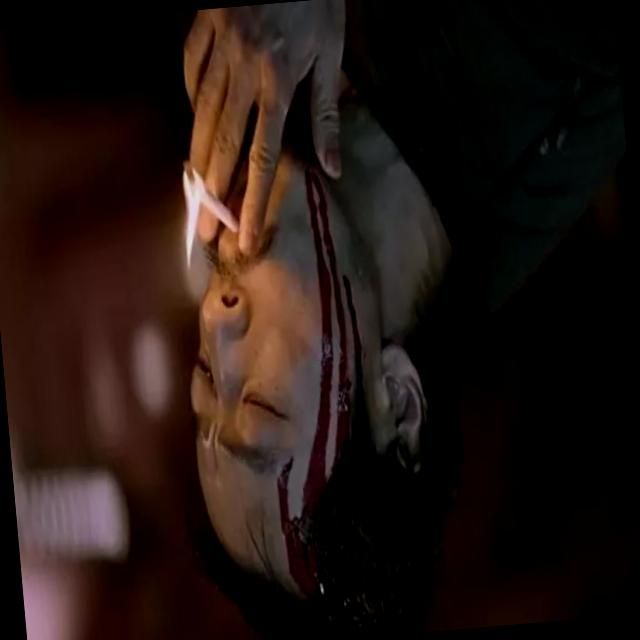smoke: (161, 159, 257, 245)
